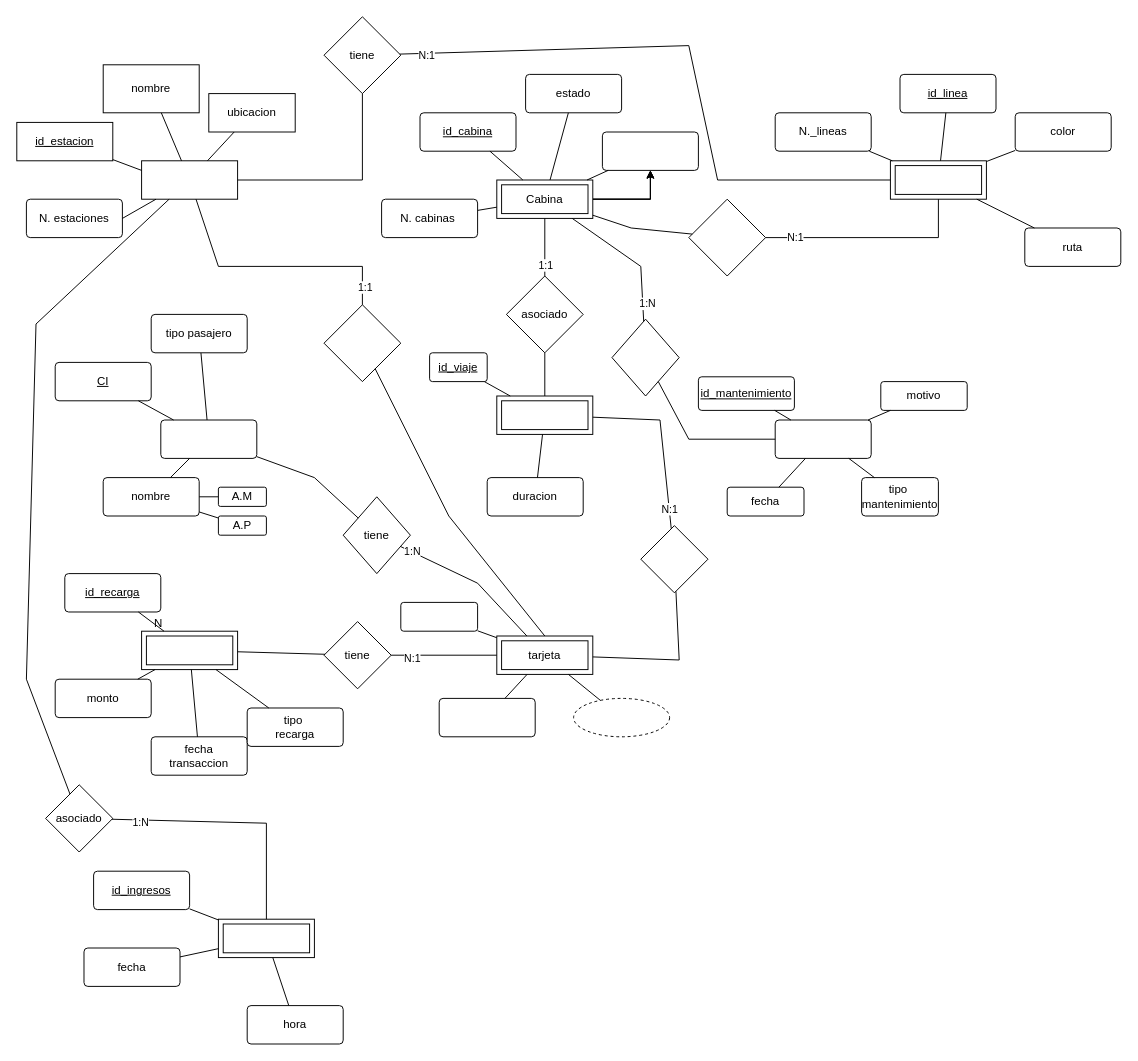
The diagram is 1138 pixels wide and 1061 high, and some of its shapes have lost their labels. The shapes that lost their labels are listed below. From the top down, each one's centre as x and y in pixels, then its label:
At [649,150]: "capacidad".
At [189,179]: "Estacion".
At [937,179]: "linea".
At [727,237]: "contiene".
At [362,343]: "utiliza".
At [645,357]: "requiere".
At [544,414]: "viaje".
At [208,438]: "pasajero".
At [822,438]: "mantenimiento".
At [674,559]: "usa".
At [439,616]: "id_tarjeta".
At [189,650]: "recarga".
At [486,717]: "tipo tarjeta".
At [621,717]: "saldo".
At [265,938]: "ingreso".
